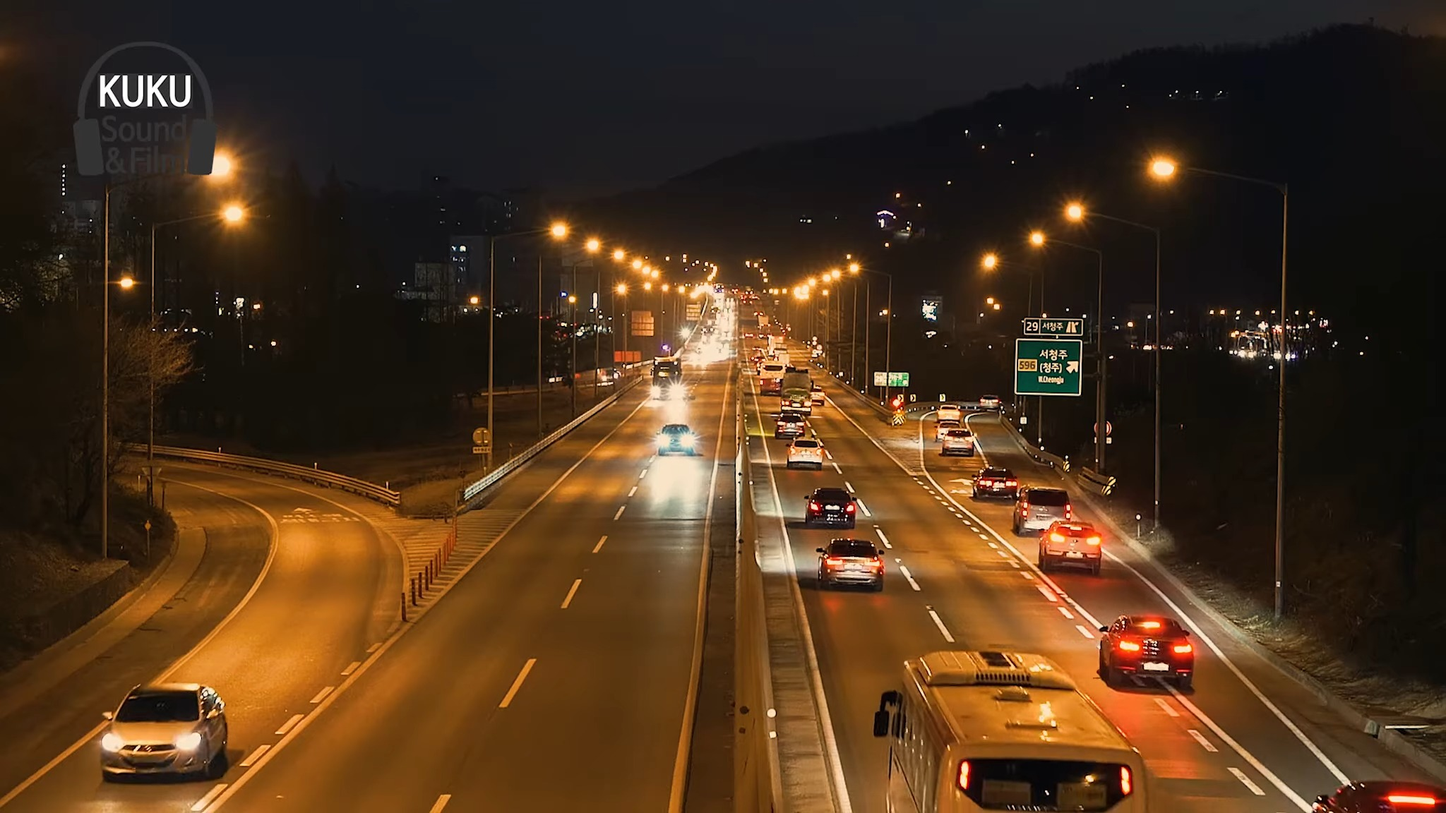car: (97, 680, 232, 780), (1098, 614, 1203, 686), (816, 533, 887, 590), (1038, 519, 1107, 573), (1015, 480, 1073, 533), (805, 491, 860, 532)
